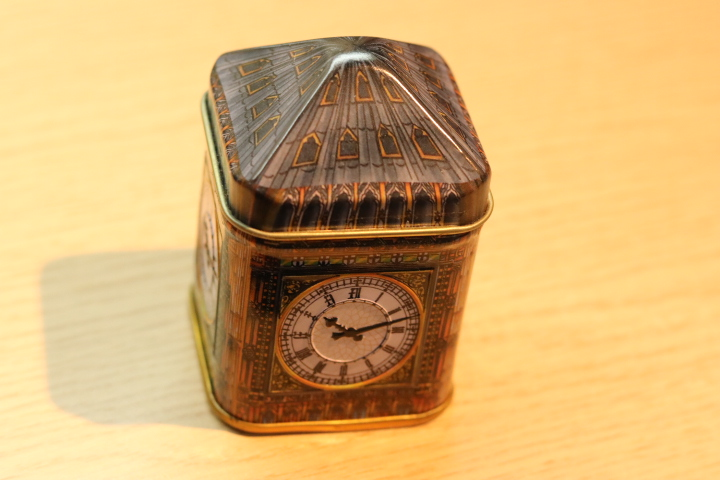Big Ben: (171, 22, 507, 450)
